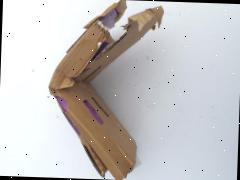cardboard: (30, 0, 188, 180)
